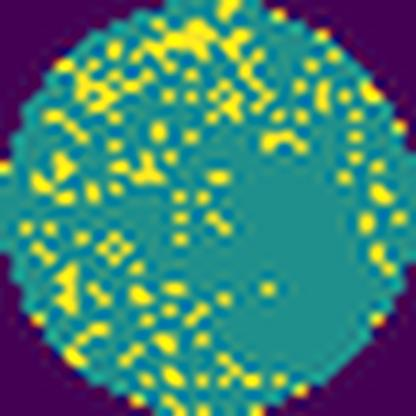Loc: (132, 14, 250, 74)
